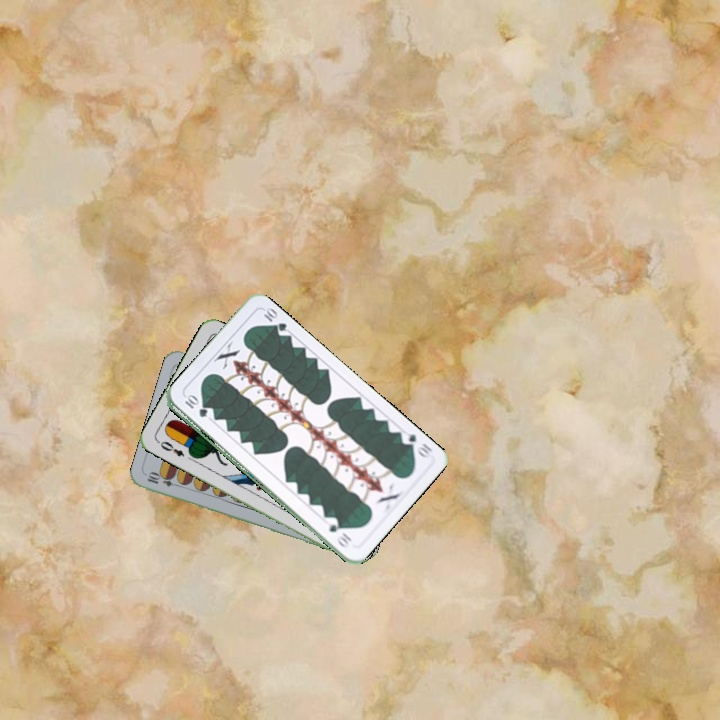E10: (143, 470, 184, 490)
EO: (153, 437, 187, 459)
G10: (396, 427, 435, 460), (181, 392, 210, 420)
